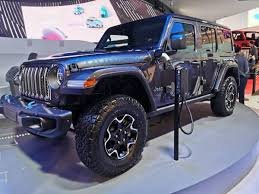mobil: (9, 16, 243, 175)
